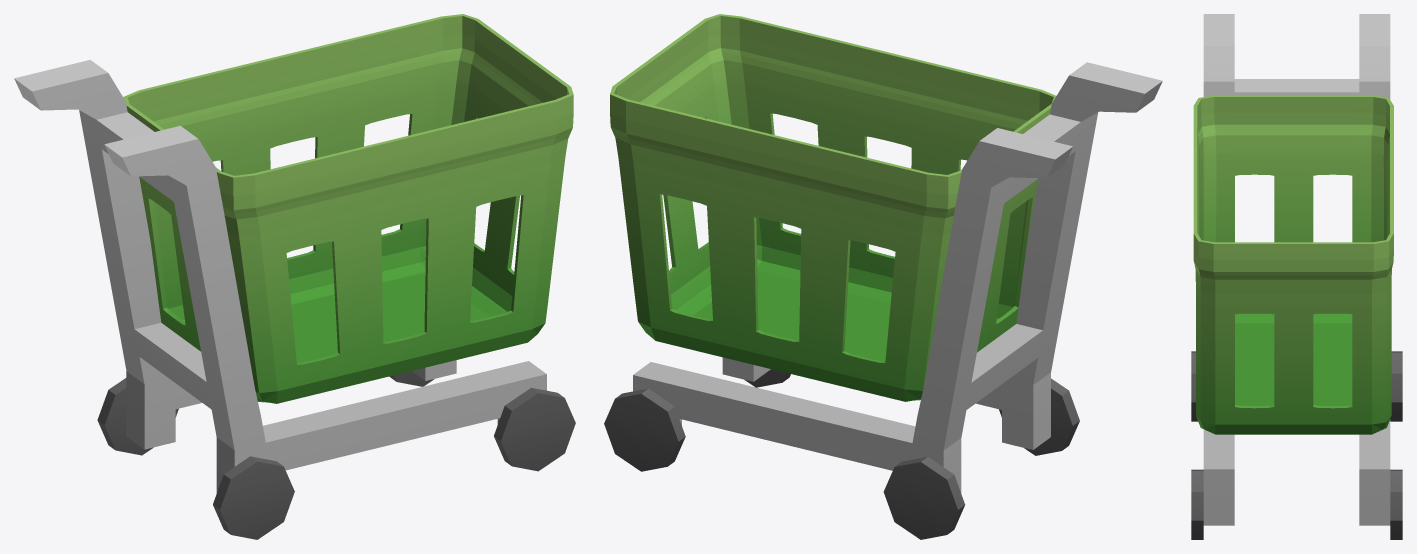
The model's file is cart_green.fbx.
The picture shows the model from 3 angles, left to right: view 1: azimuth 30°, elevation 25°; view 2: azimuth 150°, elevation 25°; view 3: azimuth 270°, elevation 25°; orthographic projection. The views are drawn at different scales.
Parts seen in each view (by area): view 1: cart_green; view 2: cart_green; view 3: cart_green.
Part boxes in pixels (x1,y1,x2,y2): cart_green: (14, 14, 575, 539); cart_green: (604, 14, 1162, 539); cart_green: (1191, 14, 1402, 539).
Bounding box in the file's own units: 728 × 625 × 340.
